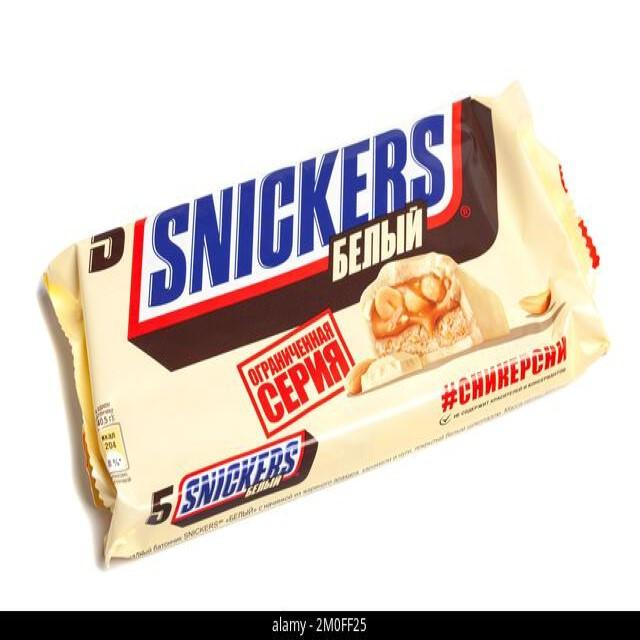snickers_chocolate: (115, 111, 552, 546)
